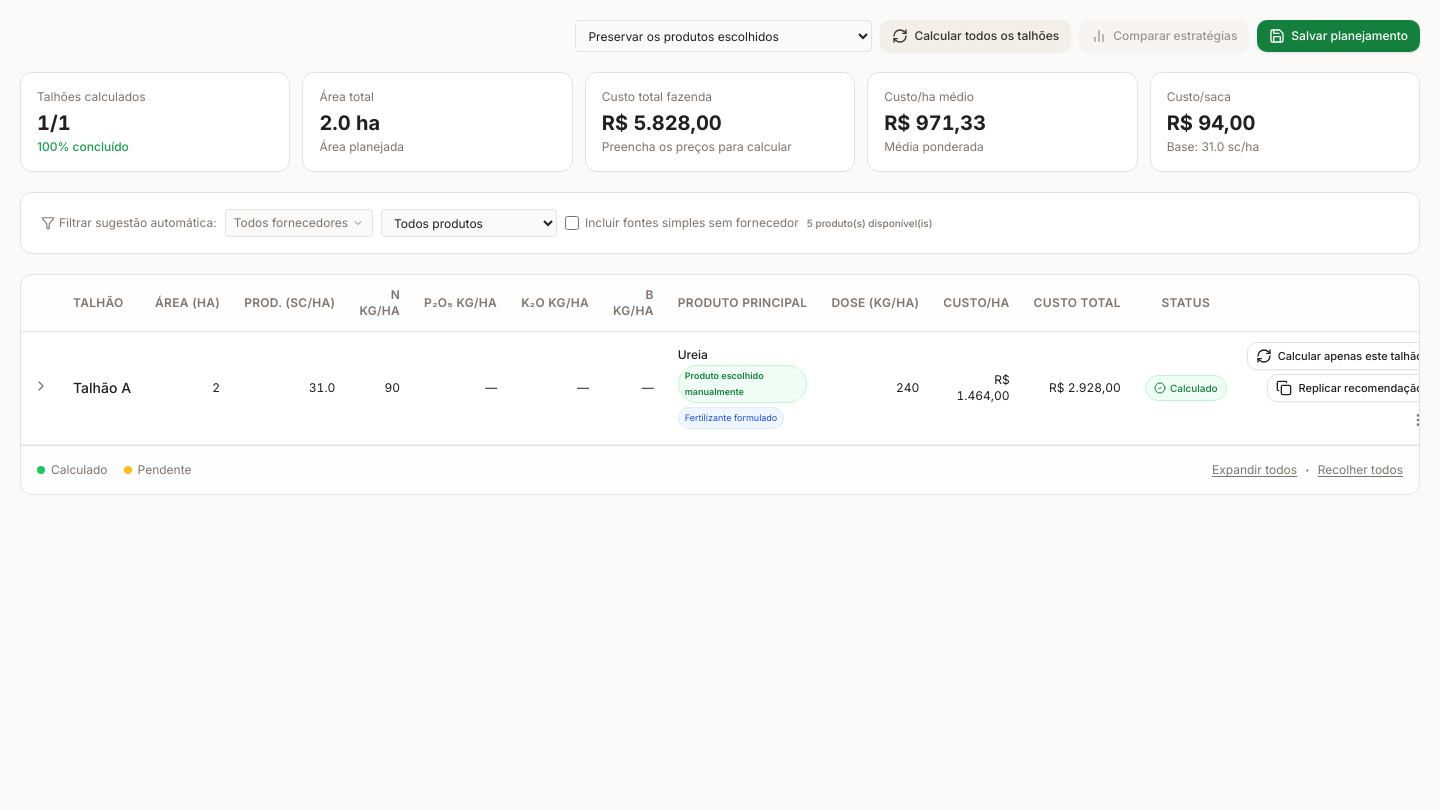
Test: QA2 Adubacao 2.0 componentes reais › modal real replica recomendacao com destinos, modulos, conflitos, alerta e resultado final
The image size is (1440, 810).
Click the button "Replicar recomendação".
click(1350, 388)  # box left=1268, top=374, right=1432, bottom=402
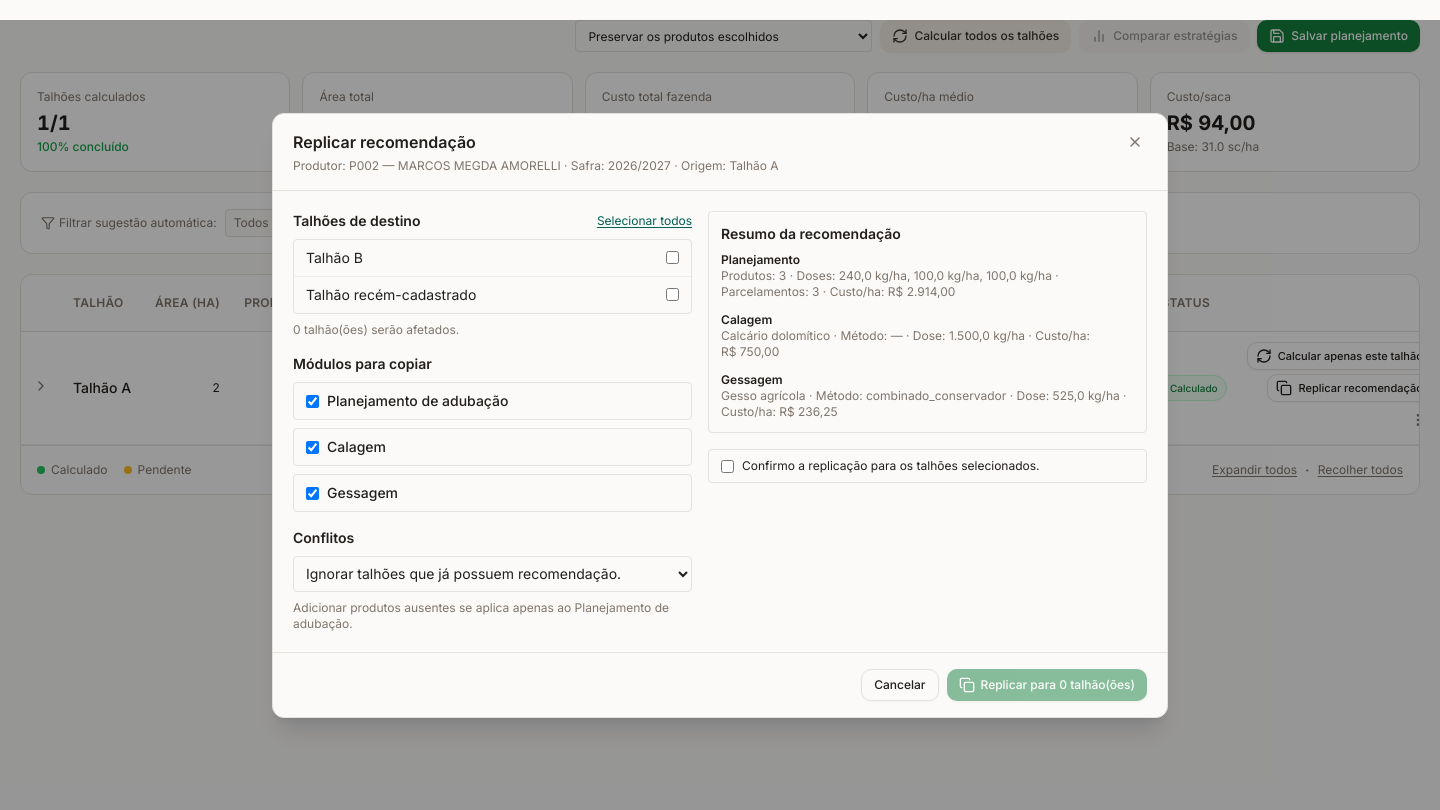
Check: the text "Origem: Talhão A" is shown, box left=293, top=158, right=779, bottom=174
Check: the checkbox labelled "Talhão B" is shown, box left=666, top=251, right=679, bottom=264
Check: the checkbox labelled "Talhão recém-cadastrado" is shown, box left=666, top=288, right=679, bottom=301
Click the button "Selecionar todos".
click(644, 220)  # box left=597, top=212, right=692, bottom=228
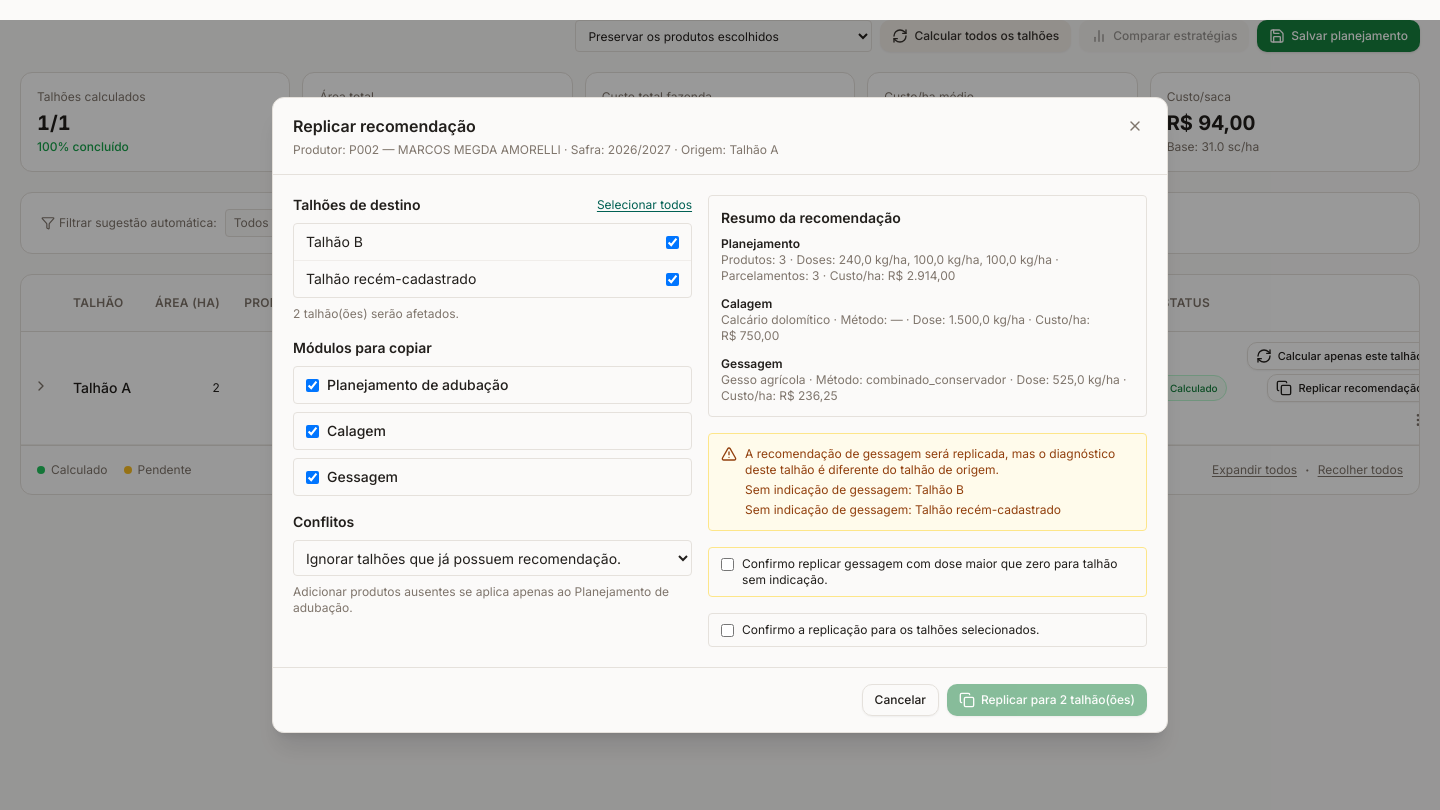
Check: the text "2 talhão(ões) serão afetados." is shown, box left=293, top=306, right=459, bottom=321
Check: the text "diagnóstico deste talhão é diferente" is shown, box left=745, top=446, right=1115, bottom=477
Select "Substituir completamente a recomendação existente." in the dropdown at (492, 558), box left=293, top=540, right=692, bottom=576
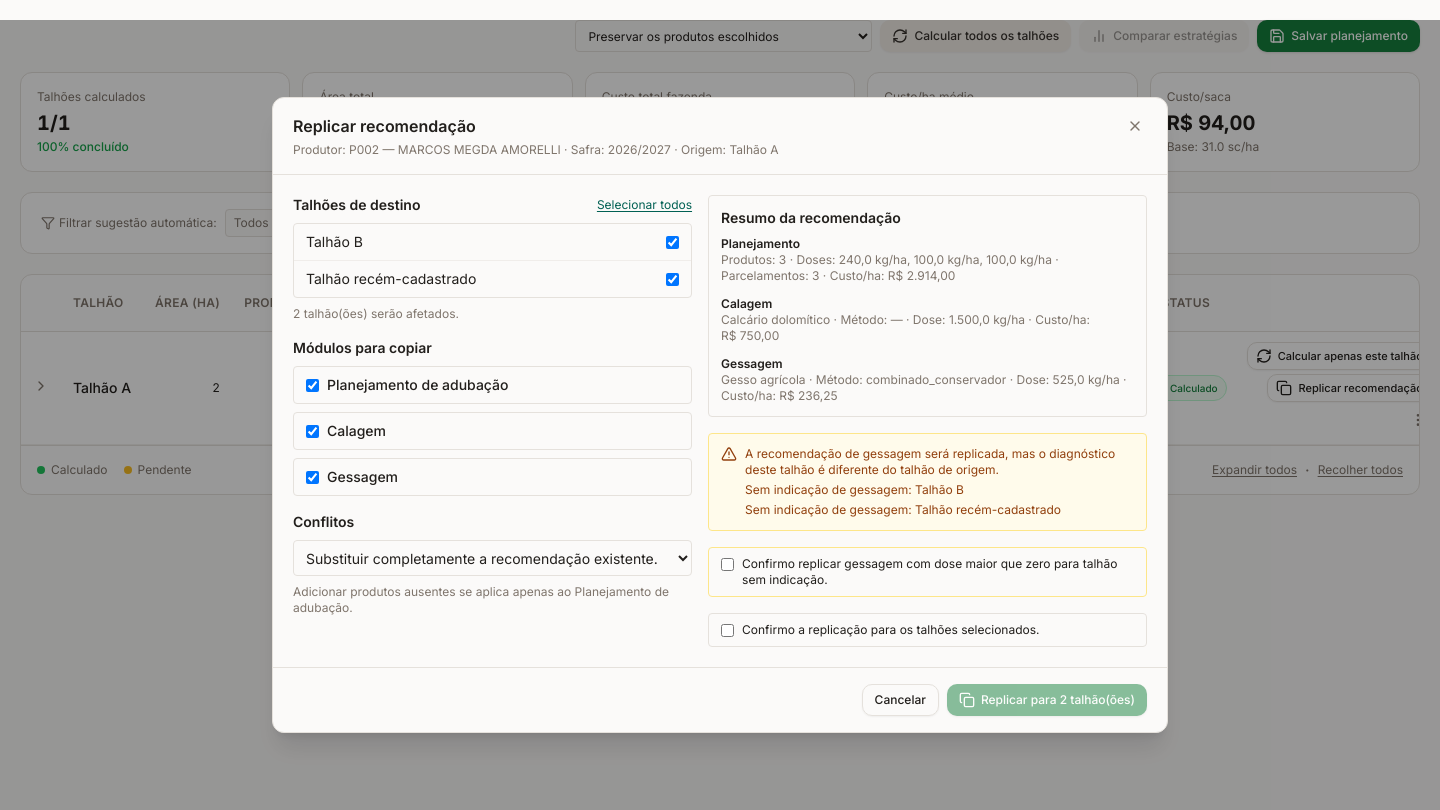
Click the checkbox labelled "Confirmo replicar gessagem".
click(728, 564)  # box left=721, top=558, right=734, bottom=571
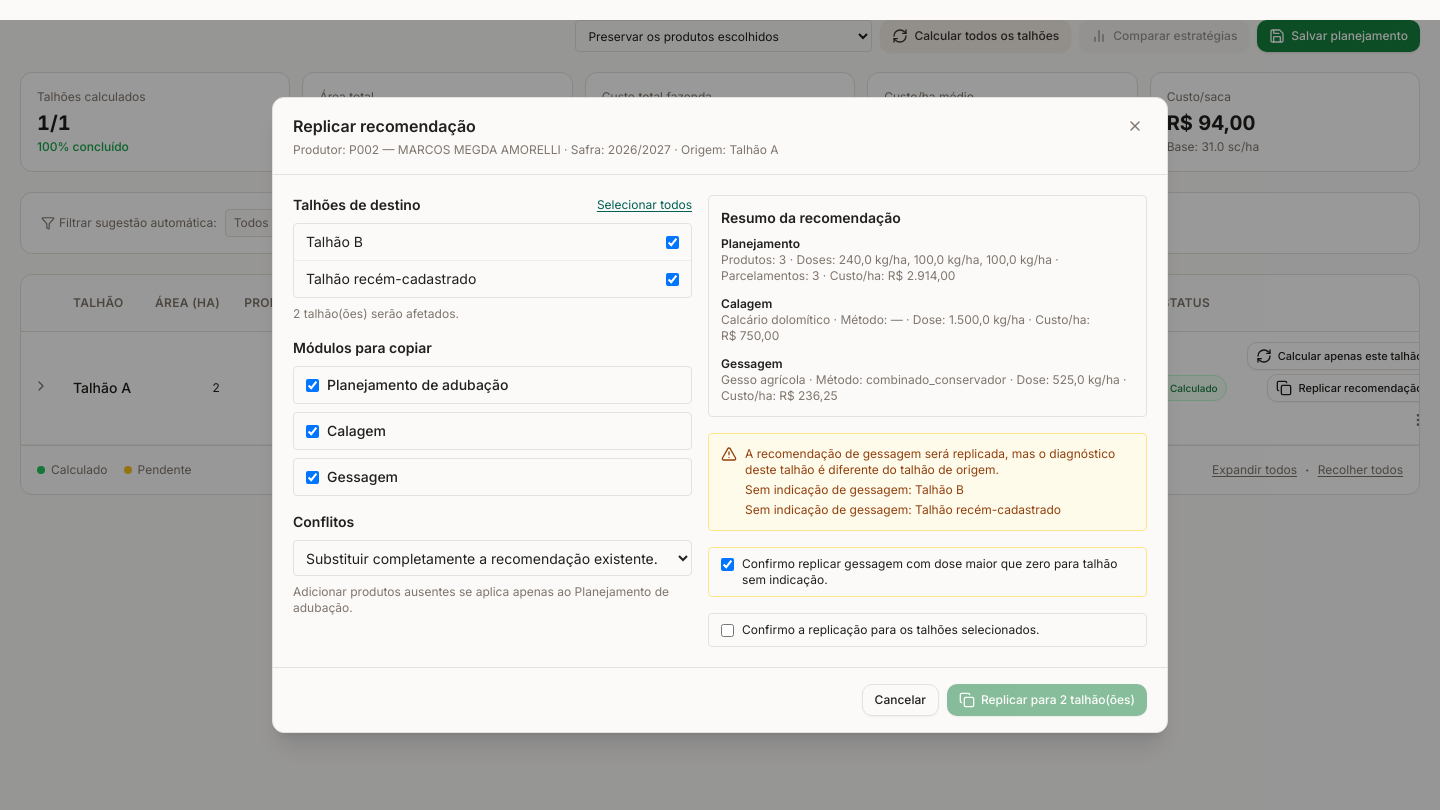
Click the checkbox labelled "Confirmo a replicação para os talhões selecionados.".
click(728, 630)  # box left=721, top=624, right=734, bottom=637
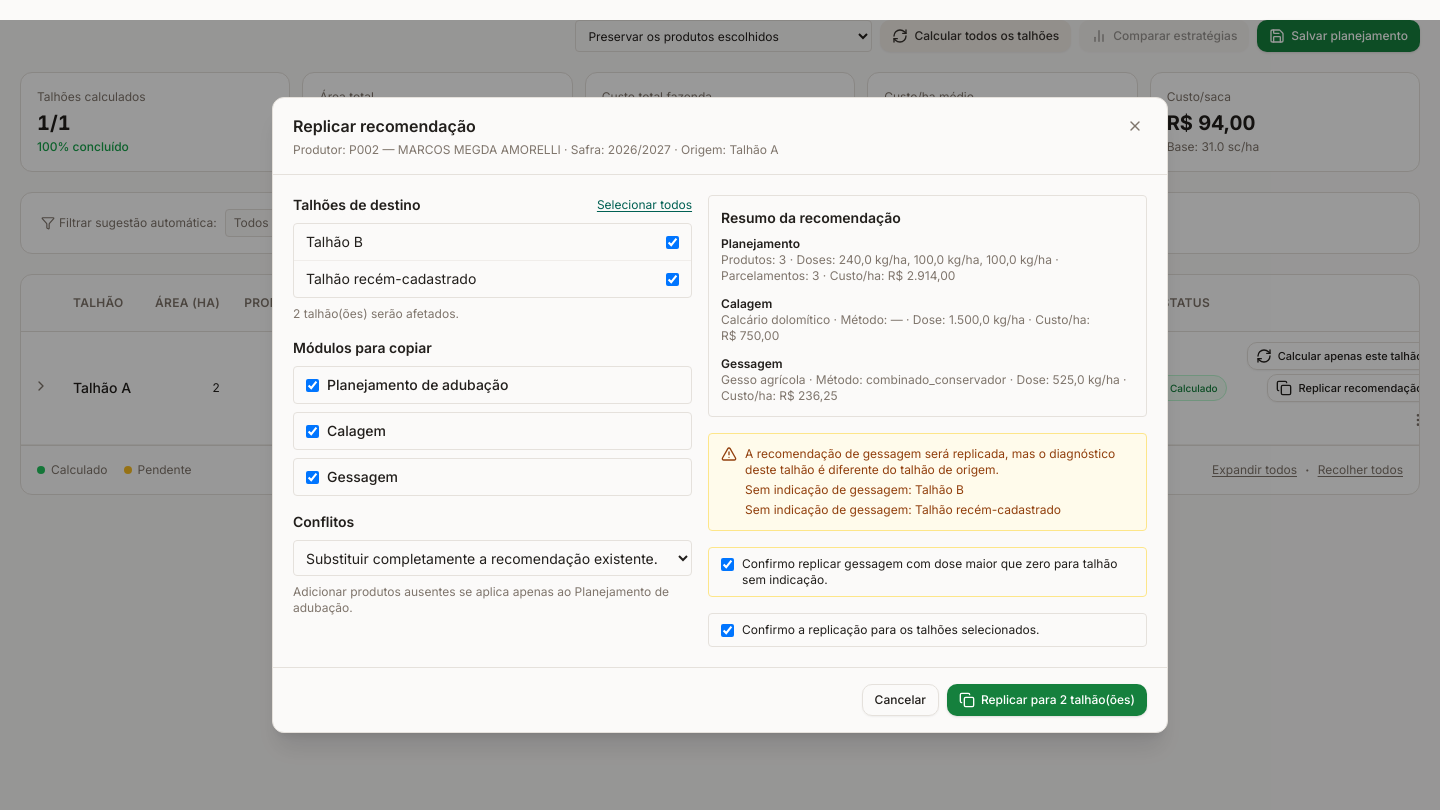
Click the button "Replicar para 2 talhão(ões)".
click(1047, 700)  # box left=947, top=684, right=1147, bottom=716
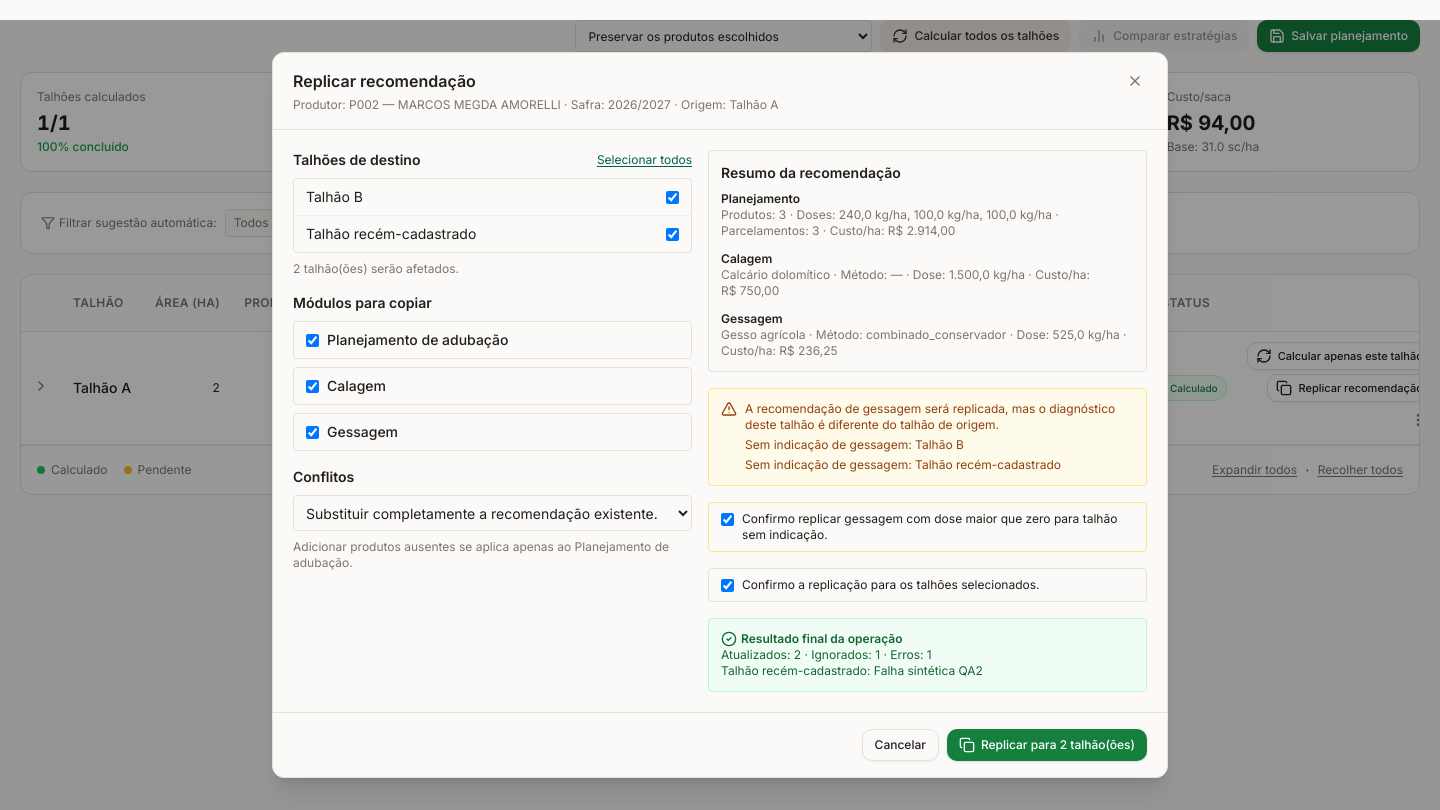
Check: the text "Resultado final da operação" is shown, box left=721, top=631, right=902, bottom=647
Check: the text "Atualizados: 2 · Ignorados: 1 · Erros: 1" is shown, box left=721, top=647, right=932, bottom=662
Check: the text "Talhão recém-cadastrado: Falha sintética QA2" is shown, box left=721, top=663, right=983, bottom=678
